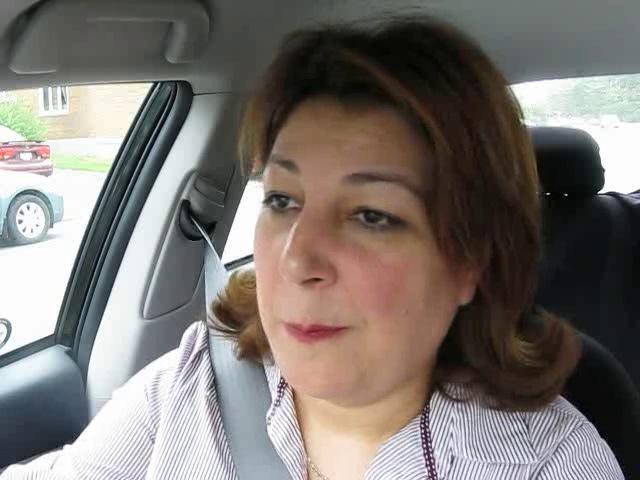no_yawn: (257, 303, 371, 366)
open_eyeL: (251, 180, 316, 228)
open_eyeR: (329, 194, 420, 245)
